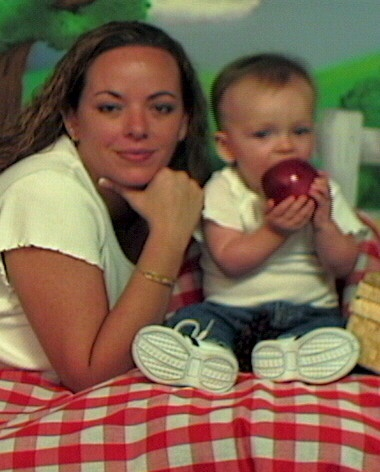head: (61, 21, 193, 187), (206, 51, 319, 190)
person: (1, 12, 215, 394), (144, 46, 367, 410)
